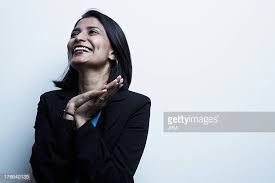indian_female: (58, 8, 124, 79)
